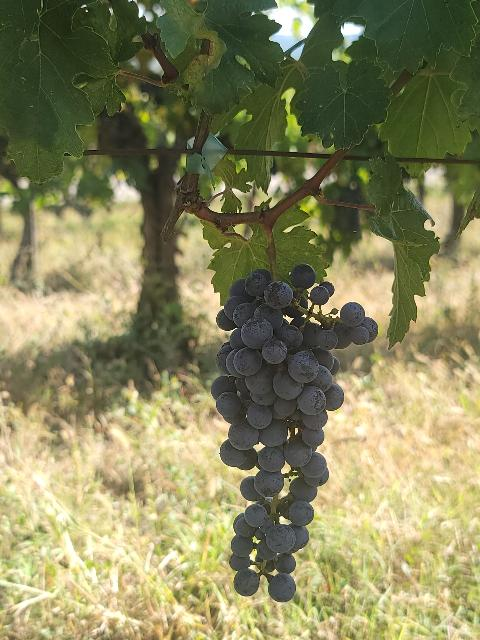grapes: (211, 264, 379, 602)
